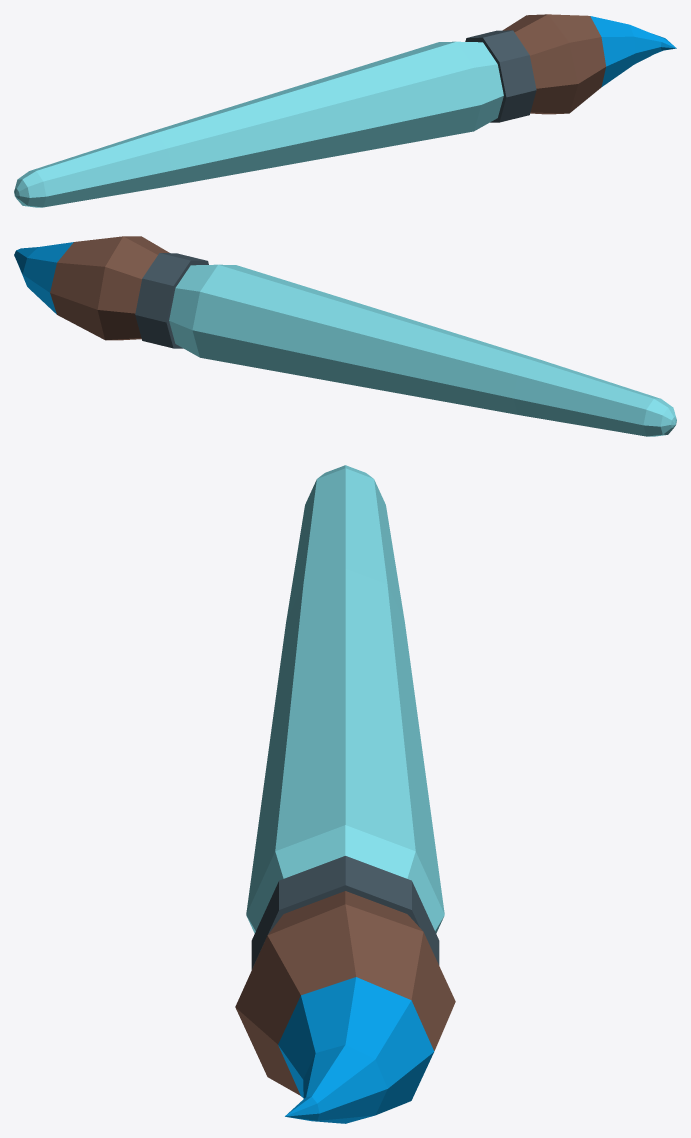
Rendered from Paint brush.glb.
3 views of the same model, one above another, from view 1: azimuth 30°, elevation 25°; view 2: azimuth 150°, elevation 25°; view 3: azimuth 270°, elevation 25° (orthographic). The views are drawn at different scales.
Parts seen in each view (by area): view 1: Circle.005; view 2: Circle.005; view 3: Circle.005.
Boxes of the visible parts, <box> form: Circle.005: <box>14,14,676,207</box>; Circle.005: <box>14,236,676,436</box>; Circle.005: <box>235,465,455,1123</box>.
Bounding box in the file's own units: 10.06 × 1.49 × 1.49.
